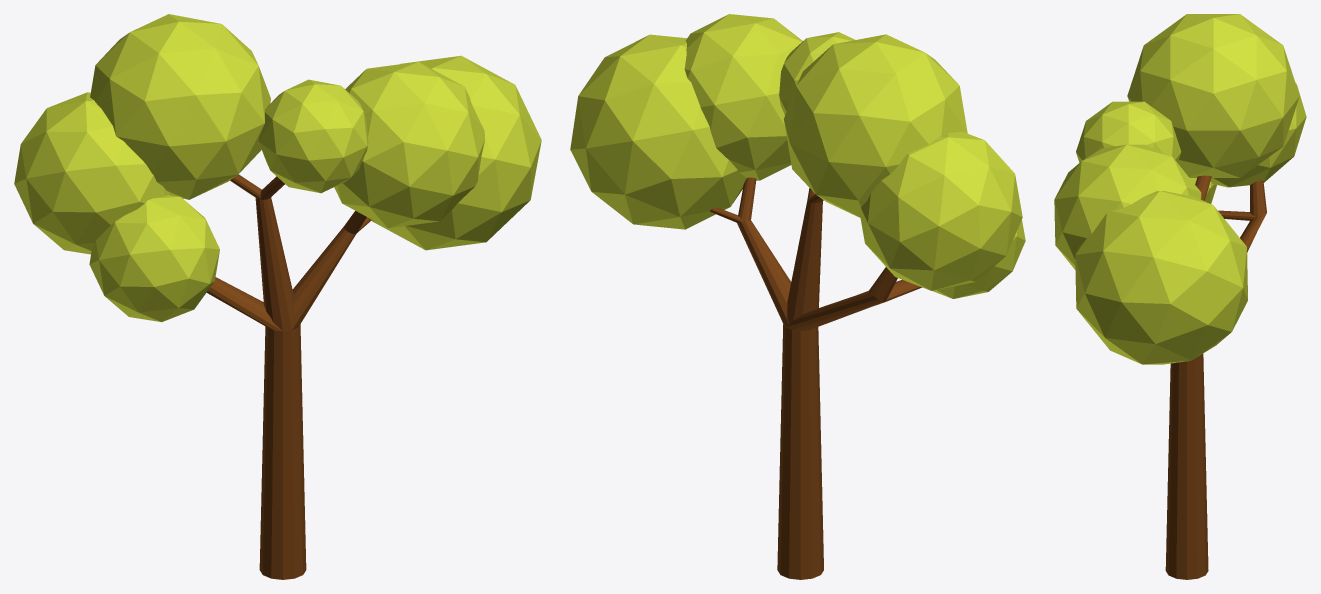
File: Tree_19.fbx
The picture shows the model from 3 angles, left to right: view 1: azimuth 30°, elevation 25°; view 2: azimuth 150°, elevation 25°; view 3: azimuth 270°, elevation 25°; orthographic projection. The views are drawn at different scales.
Visible parts, largest first — view 1: Tree_19; view 2: Tree_19; view 3: Tree_19.
Boxes of the visible parts, left/top/right/bottom form: Tree_19: left=14, top=14, right=541, bottom=579; Tree_19: left=570, top=14, right=1025, bottom=579; Tree_19: left=1054, top=14, right=1306, bottom=579.
Size of the model in its own units: 2300 by 2647 by 1179.
